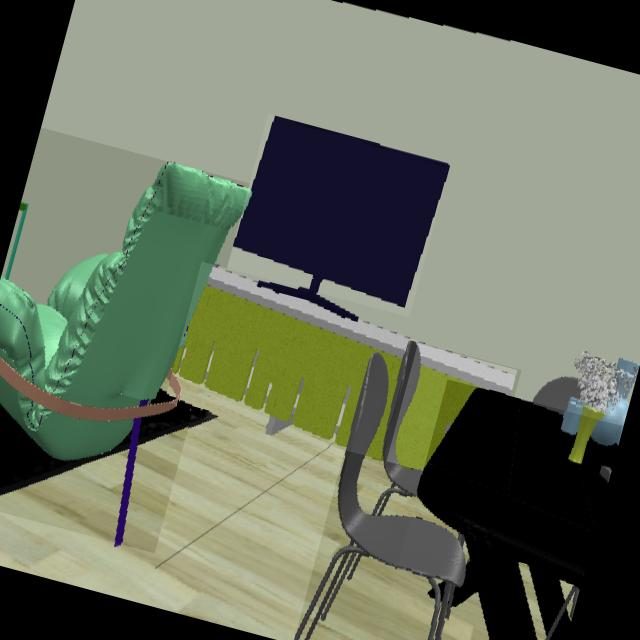cabinet: (173, 267, 409, 459), (396, 343, 515, 469)
chair: (294, 341, 465, 640)
monitor: (233, 117, 449, 318)
sofa: (0, 162, 250, 542)
table: (417, 390, 615, 640)
